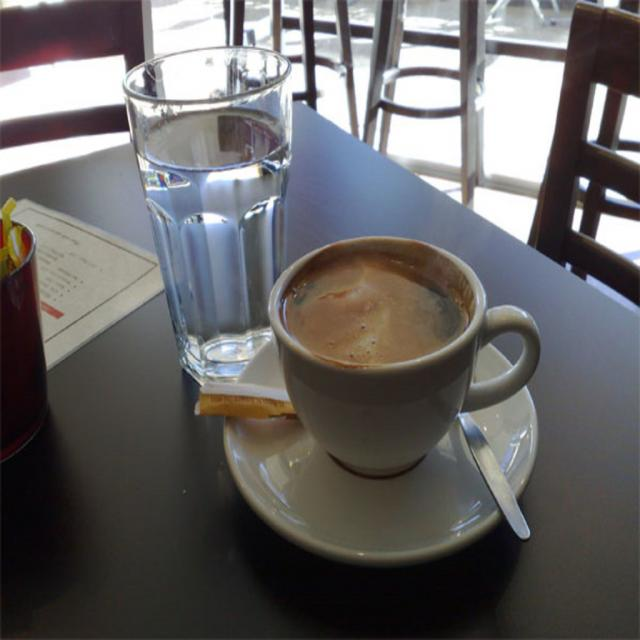Coffee: (281, 249, 477, 364)
Tea: (274, 244, 472, 368)
